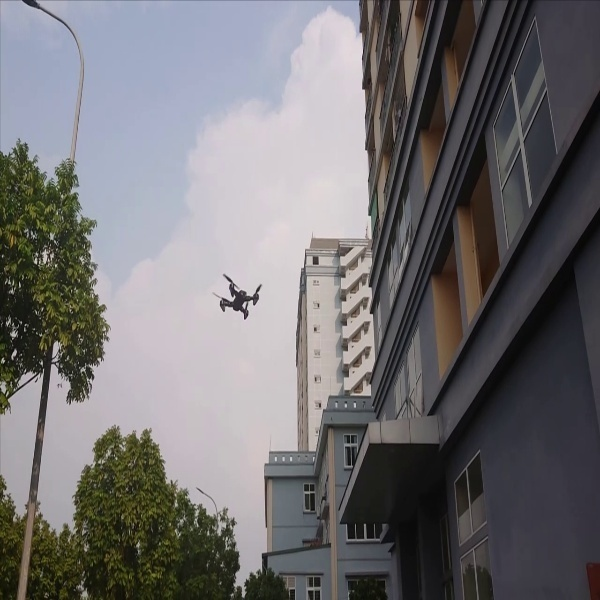drone: (209, 266, 266, 329)
